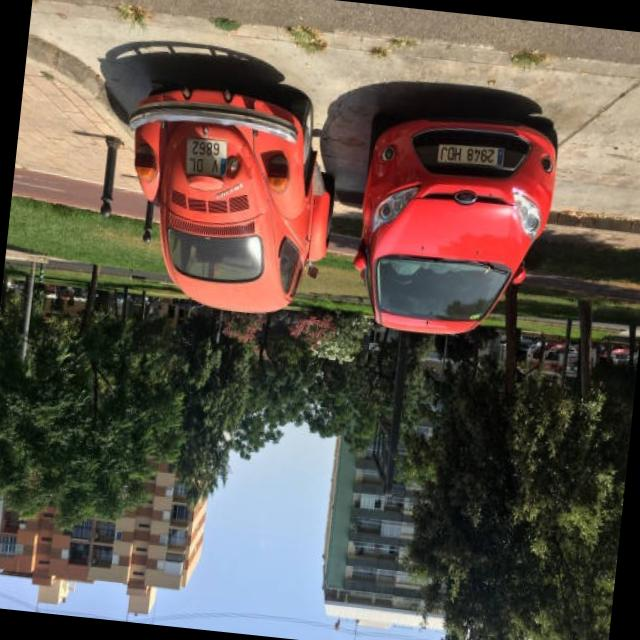car: (112, 77, 346, 310), (345, 112, 559, 344)
